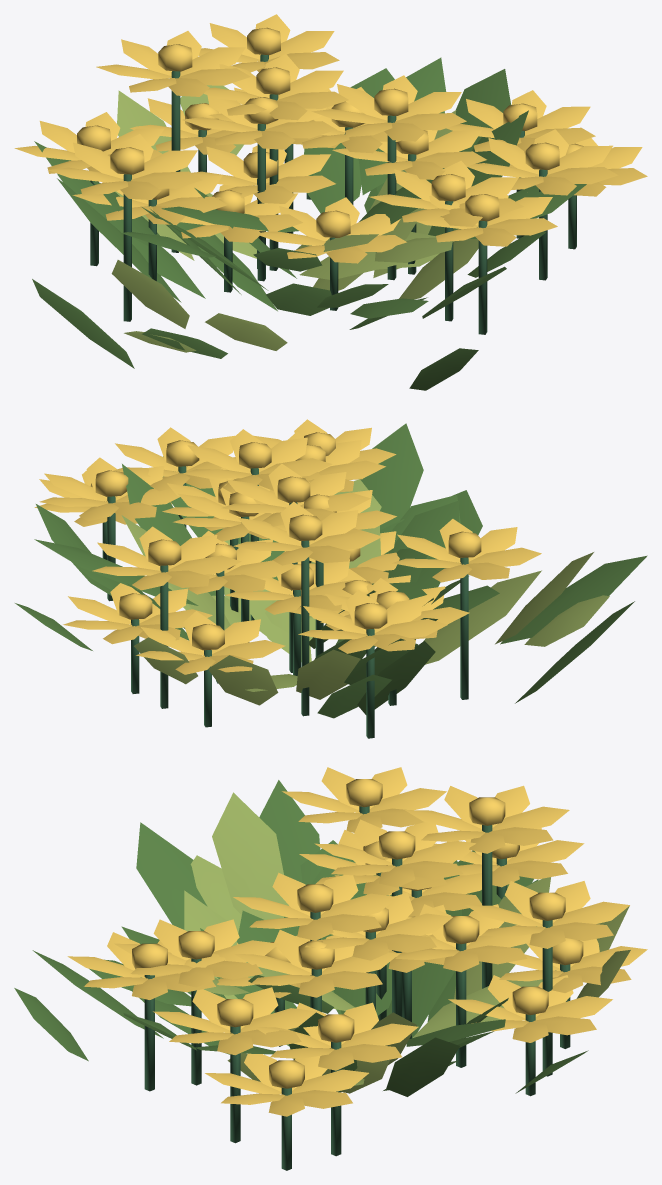
File: bush_flower_yellow.glb
3 renders of one model, top to bottom at view 1: azimuth 30°, elevation 25°; view 2: azimuth 150°, elevation 25°; view 3: azimuth 270°, elevation 25°, orthographic. The views are drawn at different scales.
Parts seen in each view (by area): view 1: bush_flower_yellow; view 2: bush_flower_yellow; view 3: bush_flower_yellow.
Part boxes in pixels (bbox=[...]): bush_flower_yellow: bbox=[14, 14, 647, 390]; bush_flower_yellow: bbox=[15, 419, 647, 738]; bush_flower_yellow: bbox=[14, 767, 647, 1170].
Bounding box in the file's own units: 1.45 × 0.5306 × 1.23.
